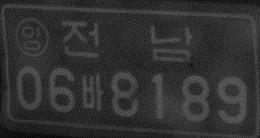0: (14, 65, 44, 111)
1: (142, 73, 173, 121)
6: (47, 66, 76, 114)
8: (180, 75, 212, 124), (109, 71, 141, 118)
9: (216, 76, 249, 125)
바: (80, 73, 105, 112)
영: (14, 17, 50, 57)
전남_D: (61, 19, 193, 64)
